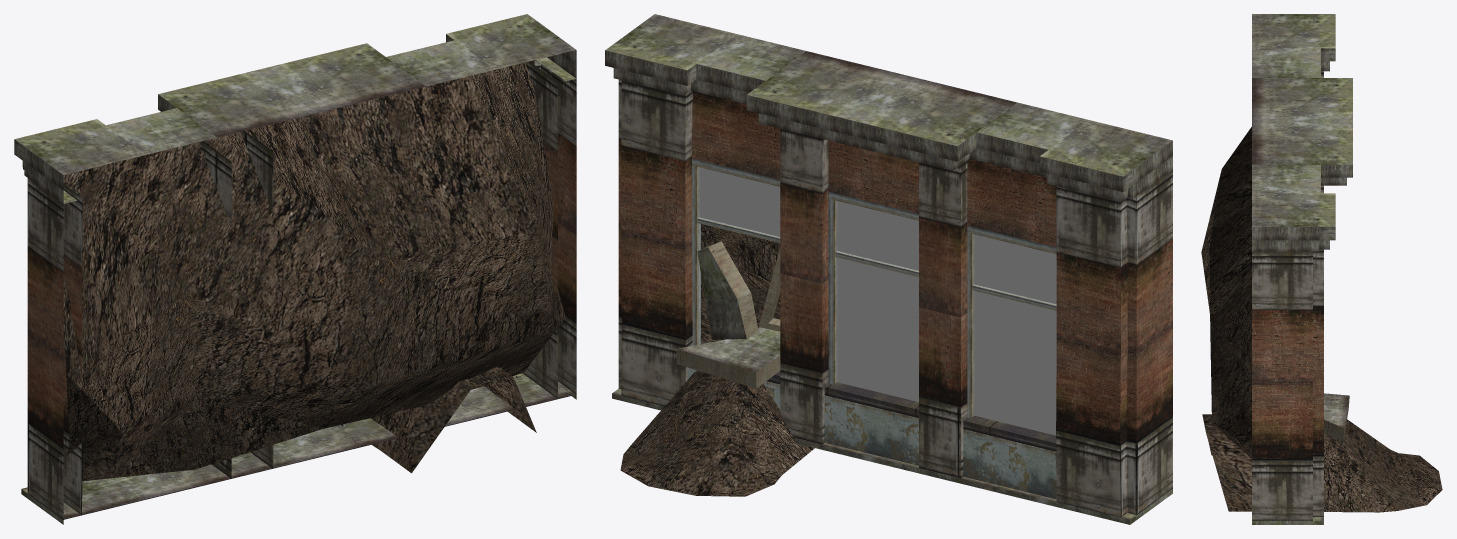
File: Store_front_44.fbx
3 renders of one model, left to right at view 1: azimuth 30°, elevation 25°; view 2: azimuth 150°, elevation 25°; view 3: azimuth 270°, elevation 25°, orthographic. The views are drawn at different scales.
Visible parts, largest first — view 1: Store_front_44; view 2: Store_front_44; view 3: Store_front_44.
Boxes of the visible parts, x1=… form: Store_front_44: x1=14, y1=14, x2=576, y2=524; Store_front_44: x1=605, y1=14, x2=1172, y2=524; Store_front_44: x1=1201, y1=14, x2=1442, y2=524.
Bounding box in the file's own units: 700 × 469 × 335.
